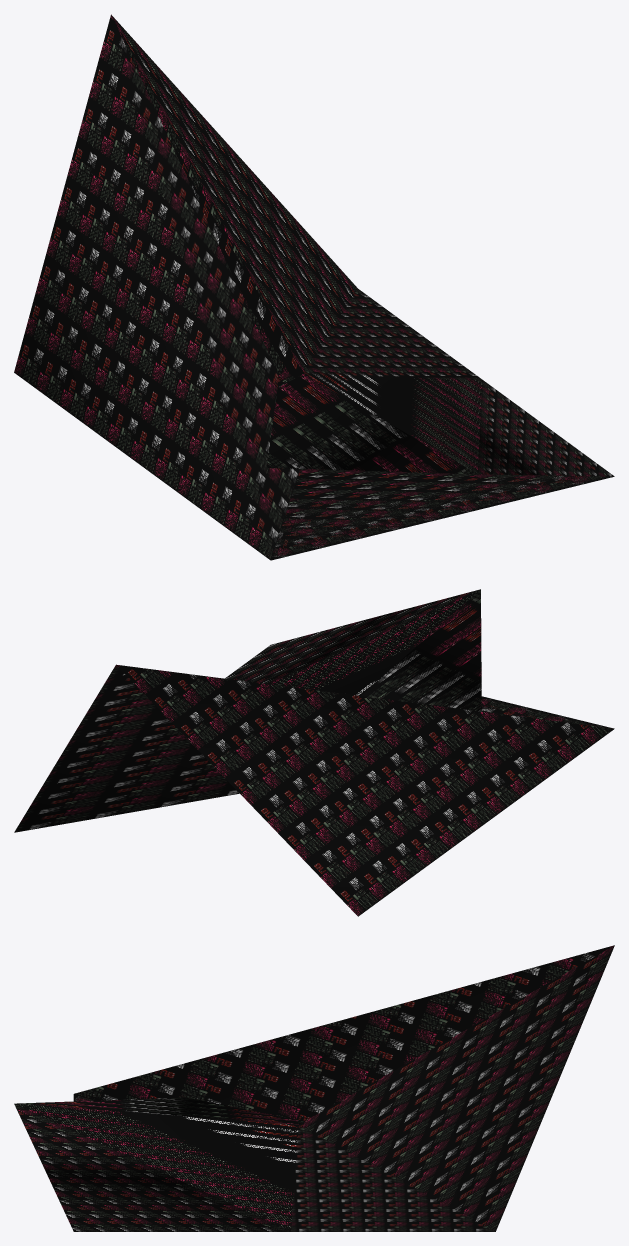
Rendered from bugrig.obj.
3 renders of one model, top to bottom at view 1: azimuth 30°, elevation 25°; view 2: azimuth 150°, elevation 25°; view 3: azimuth 270°, elevation 25°, orthographic. The views are drawn at different scales.
Parts seen in each view (by area): view 1: Box026; view 2: Box026; view 3: Box026.
Boxes of the visible parts, x1,y1,x2,y2 form: Box026: (14, 14, 614, 560); Box026: (14, 589, 614, 916); Box026: (14, 945, 614, 1231).
Bounding box in the file's own units: 24.9 × 18.24 × 45.84.
Materials: 1 (1 with a texture image).
